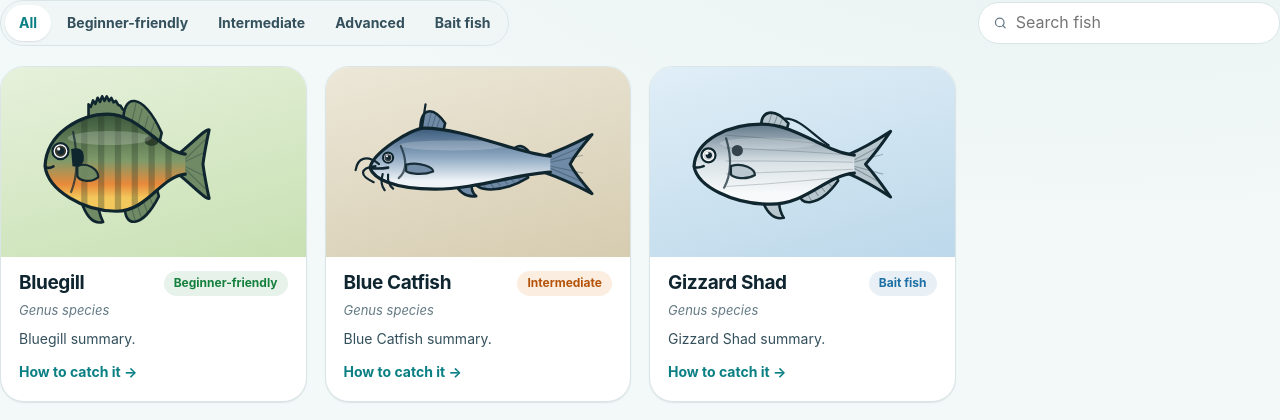
FishGrid › filters by difficulty and by bait fish
The width and height of the screenshot is (1280, 420).
Click the tab "Intermediate" at [262, 23], box [204,5,319,41]
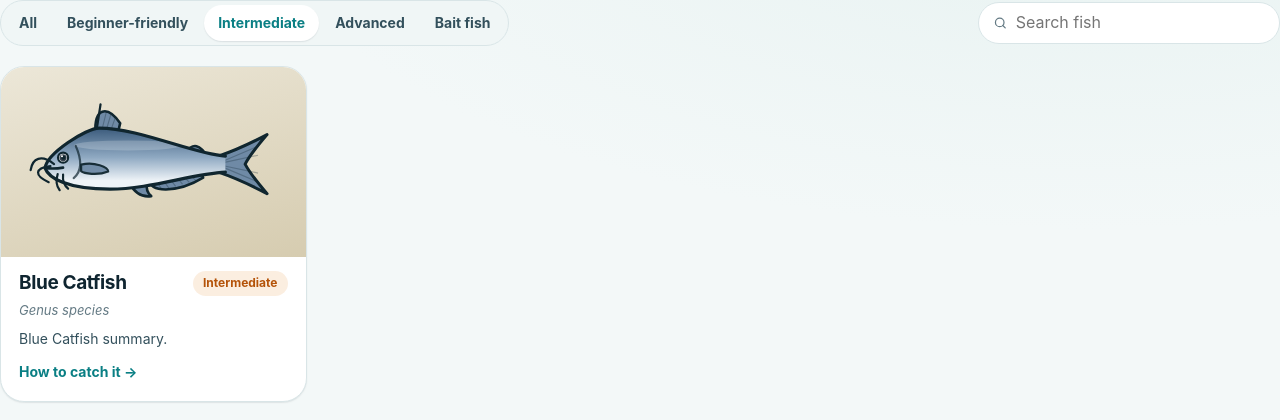
Check: the heading "Blue Catfish" is shown, box [19,272,127,294]
Check: the link "Bluegill" is gone
Click the tab "Bait fish" at [463, 23], box [421,5,504,41]
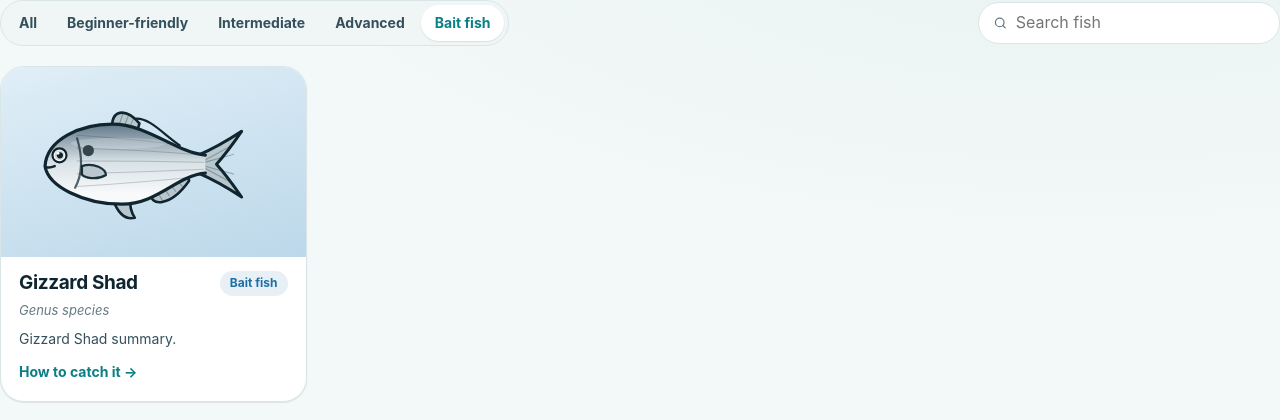
Check: the heading "Gizzard Shad" is shown, box [19,272,138,294]
Check: the link "Blue Catfish" is gone
